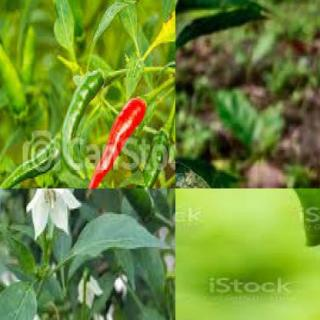green_chilli: (57, 65, 105, 178), (0, 120, 65, 188), (122, 124, 175, 188), (271, 188, 319, 250), (97, 188, 156, 228)
